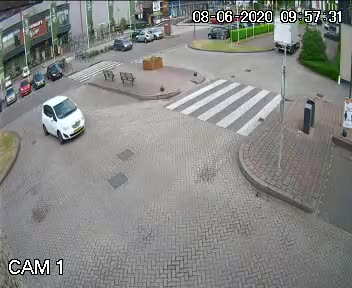car: (26, 92, 100, 152), (265, 9, 308, 56)
